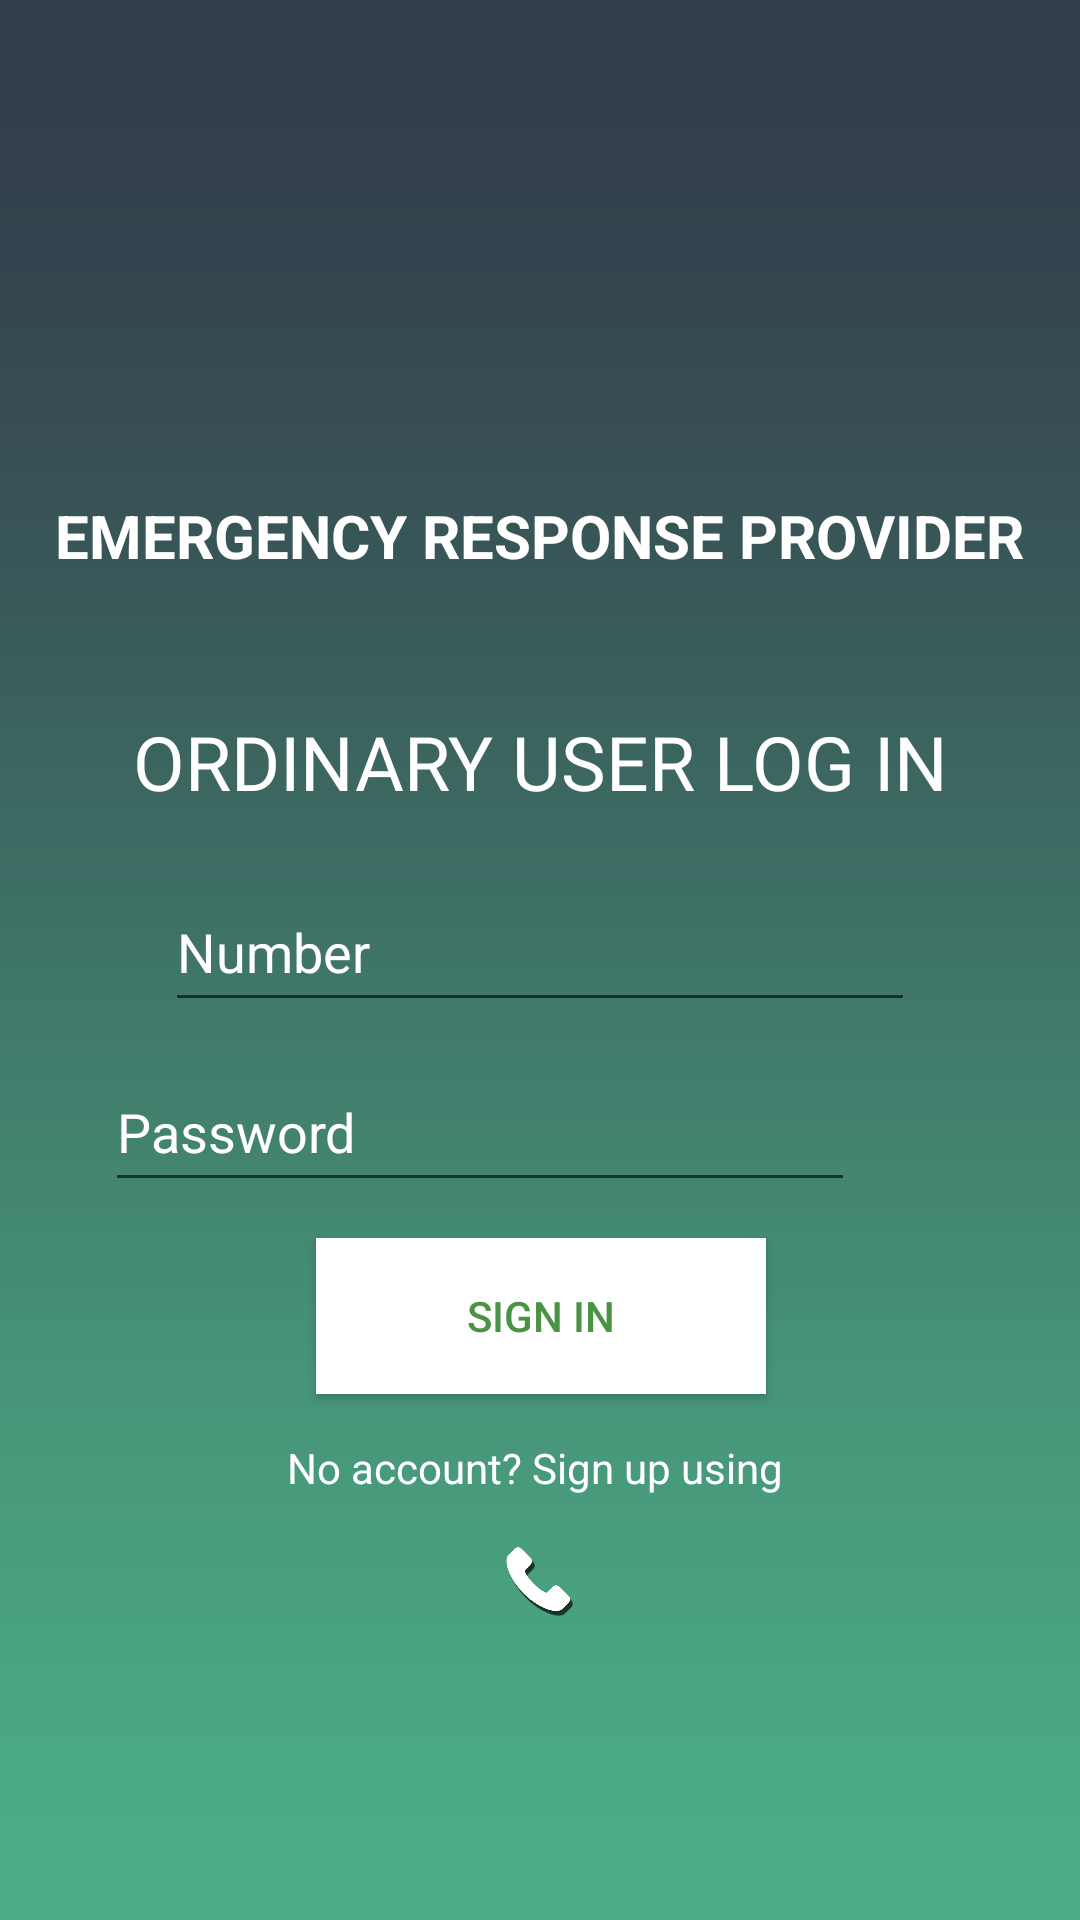

Named icons in this screenshot (1080w x 1920h) and their bounding boxes, (x1, y1, x2, y2):
call: (506, 1547, 573, 1616)
